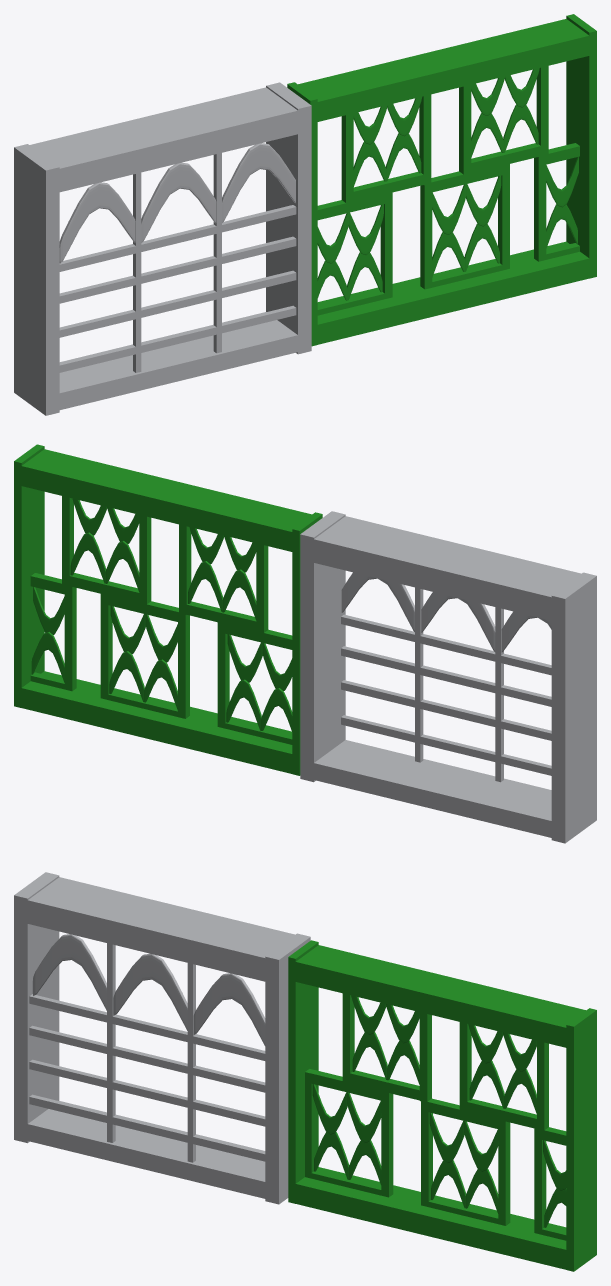
Rendered from patio_003.glb.
The picture shows the model from 3 angles, top to bottom: view 1: azimuth 30°, elevation 25°; view 2: azimuth 150°, elevation 25°; view 3: azimuth 330°, elevation 25°; orthographic projection.
Parts seen in each view (by area): view 1: Patio_003; view 2: Patio_003; view 3: Patio_003.
Boxes of the visible parts, <box> form: Patio_003: <box>14,14,596,415</box>; Patio_003: <box>14,444,596,843</box>; Patio_003: <box>14,872,596,1271</box>.
Bounding box in the file's own units: 16.83 × 7.11 × 1.67.
